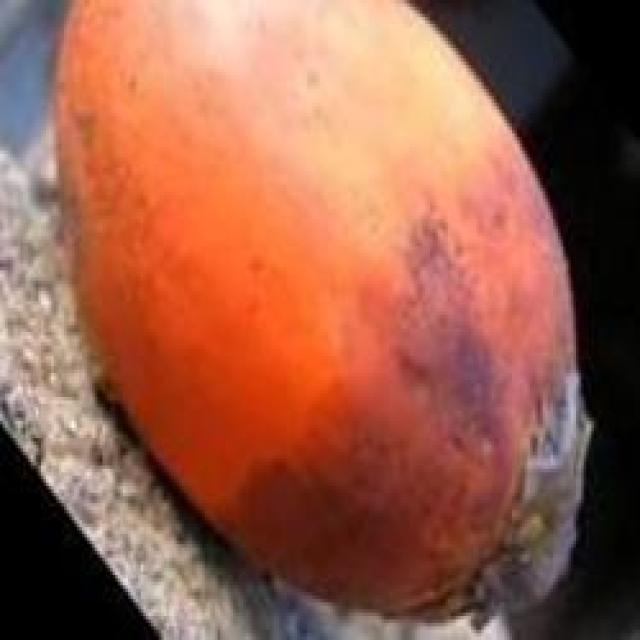good: (49, 0, 596, 609)
